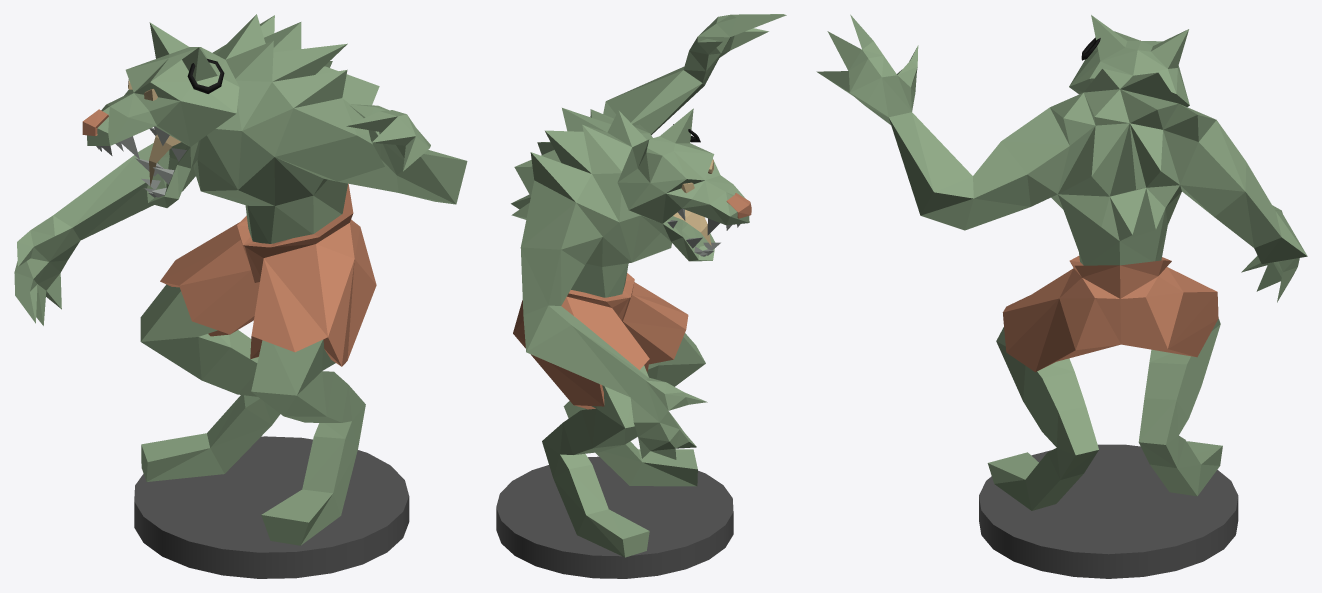
Rendered from Werewolf.obj.
3 views of the same model, side by side, from view 1: azimuth 30°, elevation 25°; view 2: azimuth 150°, elevation 25°; view 3: azimuth 270°, elevation 25° (orthographic). The views are drawn at different scales.
Visible parts, largest first — view 1: Werewolf, Stand; view 2: Werewolf, Stand; view 3: Werewolf, Stand.
Part boxes in pixels (x1=…): Werewolf: x1=14, y1=14, x2=467, y2=545; Stand: x1=134, y1=436, x2=409, y2=578; Werewolf: x1=511, y1=14, x2=786, y2=557; Stand: x1=496, y1=456, x2=733, y2=578; Werewolf: x1=816, y1=14, x2=1307, y2=510; Stand: x1=979, y1=444, x2=1238, y2=578.
Bounding box in the file's own units: 18.34 × 29.84 × 27.64.
